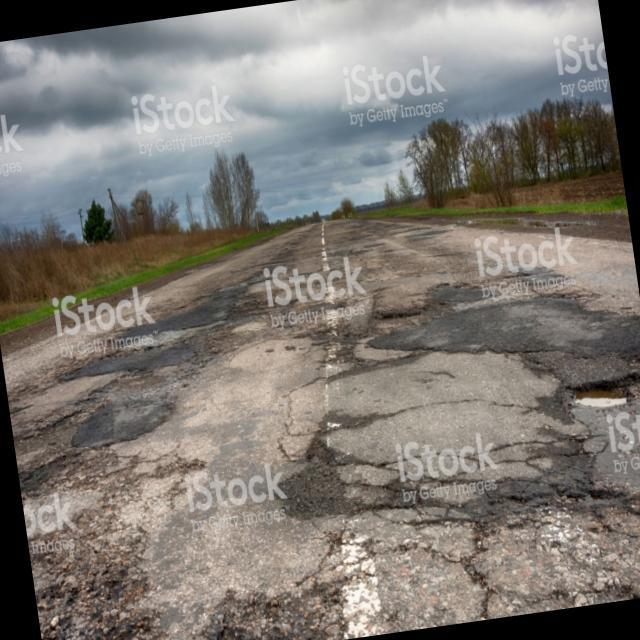Pothole: (483, 446, 640, 554), (31, 554, 140, 640), (198, 569, 315, 640), (19, 439, 100, 509), (563, 352, 640, 422), (150, 443, 206, 493), (374, 294, 446, 331)
